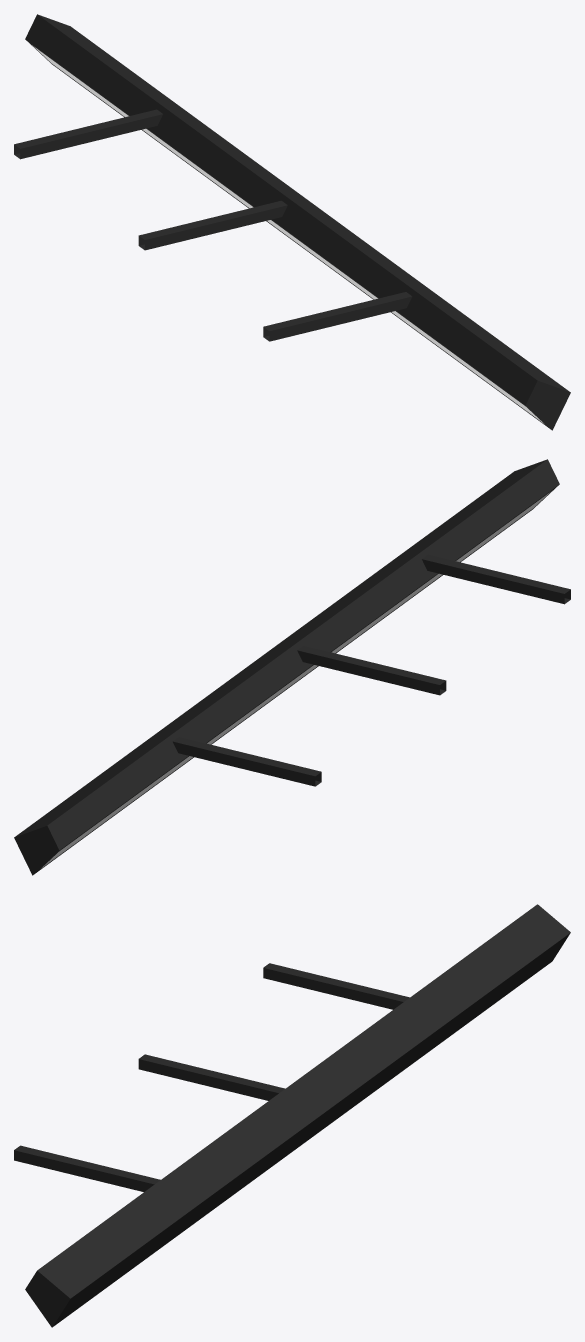
File: SM_billboardLight_01.gltf
The picture shows the model from 3 angles, top to bottom: view 1: azimuth 30°, elevation 25°; view 2: azimuth 150°, elevation 25°; view 3: azimuth 330°, elevation 25°; orthographic projection.
Parts seen in each view (by area): view 1: SM_billboardLight_01; view 2: SM_billboardLight_01; view 3: SM_billboardLight_01.
Part boxes in pixels (box(x1,y1,x2,y2)): SM_billboardLight_01: box(14, 14, 570, 430); SM_billboardLight_01: box(14, 459, 570, 875); SM_billboardLight_01: box(14, 904, 570, 1327).
Bounding box in the file's own units: 0.8295 × 0.238 × 4.02.
Materials: 1 (1 with a texture image).
